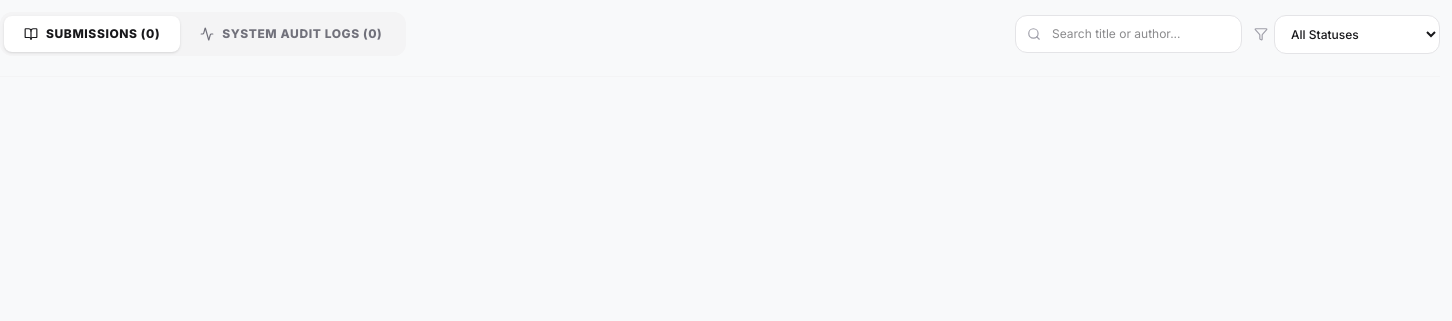
Scenario: SubmissionsModeration › shows the empty audit-log state when there are none
Click the button "System Audit Logs (0)". click: point(291, 34)
box: [180,16,402,52]
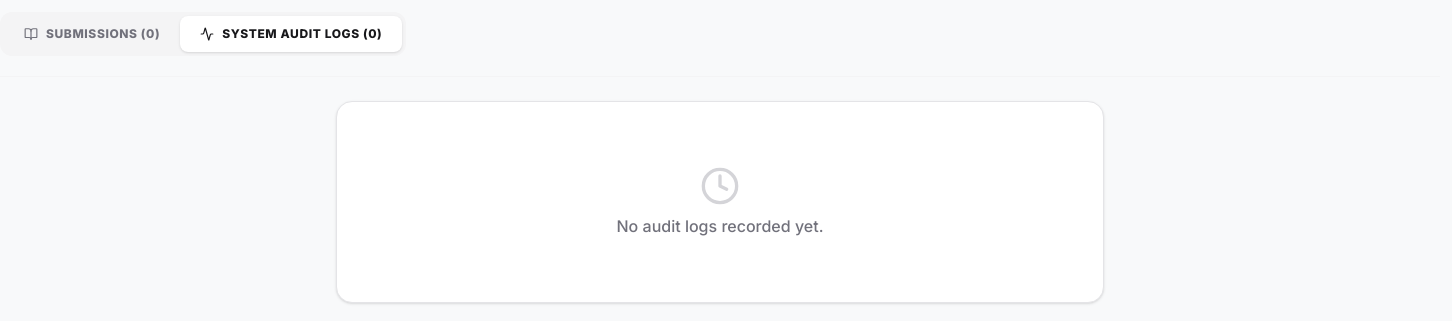
Now the text "No audit logs recorded yet." is shown, box [616,216,824,236]
